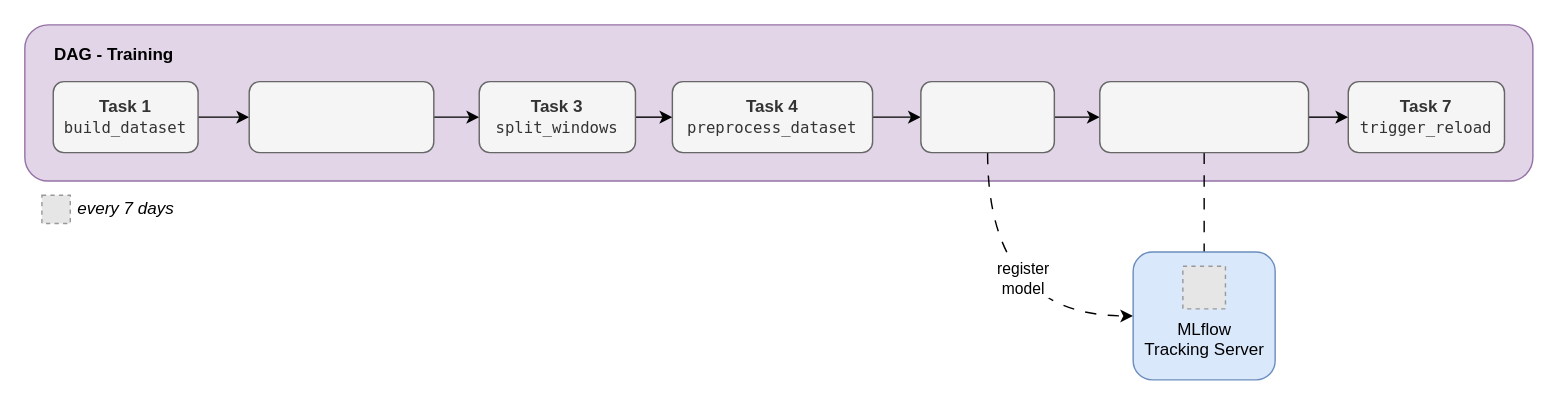
Image size: 1558x405. Some labels were removed from this diagram. Grey dashed boxes stand in for pictures. Each missing label, with the centre of its shape:
"Task 2 download_dataset" goes at (341,116).
"Task 5 train_model" goes at (986,116).
"Task 6 promote_best_model" goes at (1203,116).
